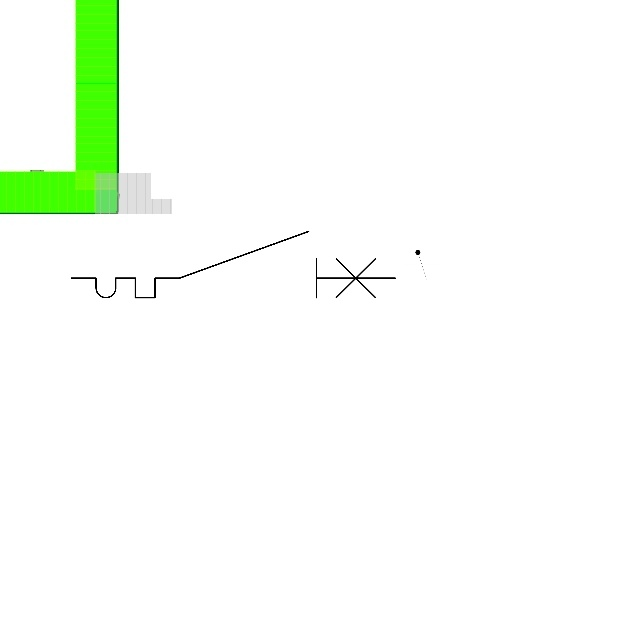interruptor_termomagnetico: (63, 223, 404, 306)
